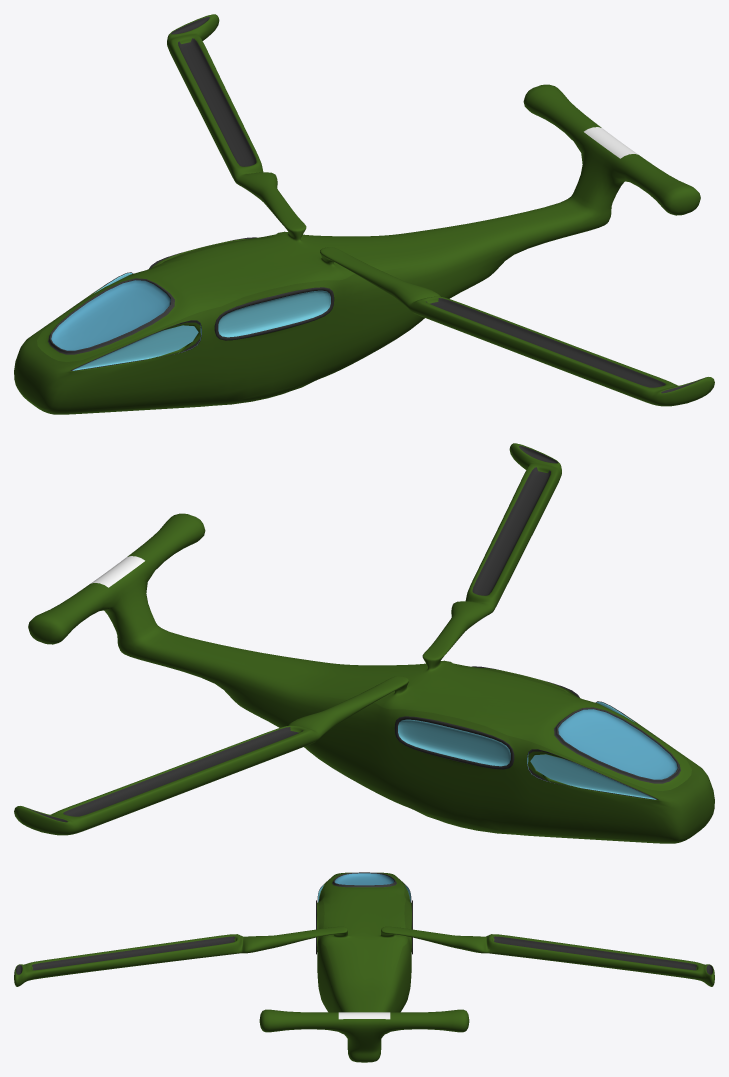
File: styloo-planehelice.glb
The picture shows the model from 3 angles, top to bottom: view 1: azimuth 30°, elevation 25°; view 2: azimuth 150°, elevation 25°; view 3: azimuth 270°, elevation 25°; orthographic projection. The views are drawn at different scales.
Parts seen in each view (by area): view 1: Cube.013; view 2: Cube.013; view 3: Cube.013.
Part boxes in pixels (x1,y1,x2,y2): Cube.013: (14,14,714,414); Cube.013: (14,443,714,843); Cube.013: (14,872,714,1062).
Size of the model in its own units: 7.96 by 1.92 by 11.42.
Materials: 1 (1 with a texture image).
